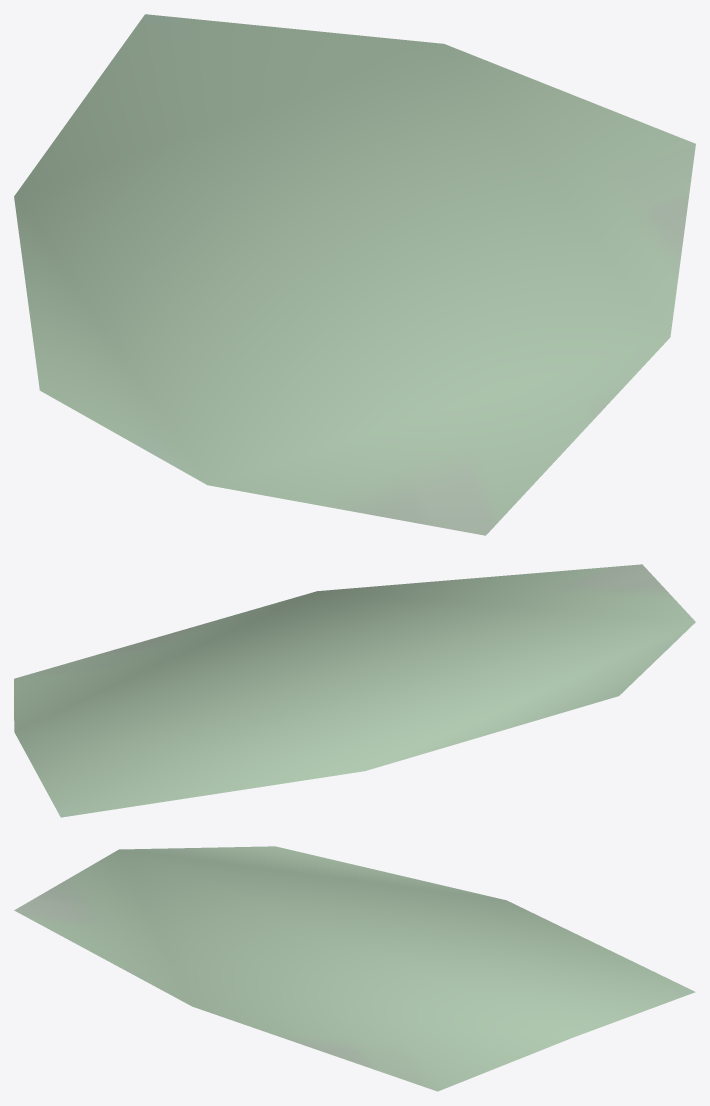
The model's file is TROLLHOLE02_HOLECAP143.fbx.
3 views of the same model, one above another, from view 1: azimuth 30°, elevation 25°; view 2: azimuth 150°, elevation 25°; view 3: azimuth 270°, elevation 25° (orthographic). The views are drawn at different scales.
Visible parts, largest first — view 1: TROLLHOLE02_HOLECAP143; view 2: TROLLHOLE02_HOLECAP143; view 3: TROLLHOLE02_HOLECAP143.
Boxes of the visible parts, x1=… form: TROLLHOLE02_HOLECAP143: x1=14, y1=14, x2=695, y2=535; TROLLHOLE02_HOLECAP143: x1=14, y1=564, x2=695, y2=817; TROLLHOLE02_HOLECAP143: x1=14, y1=846, x2=695, y2=1091.
Size of the model in its own units: 29322 by 2263 by 39675.
Materials: 1 (1 with a texture image).
